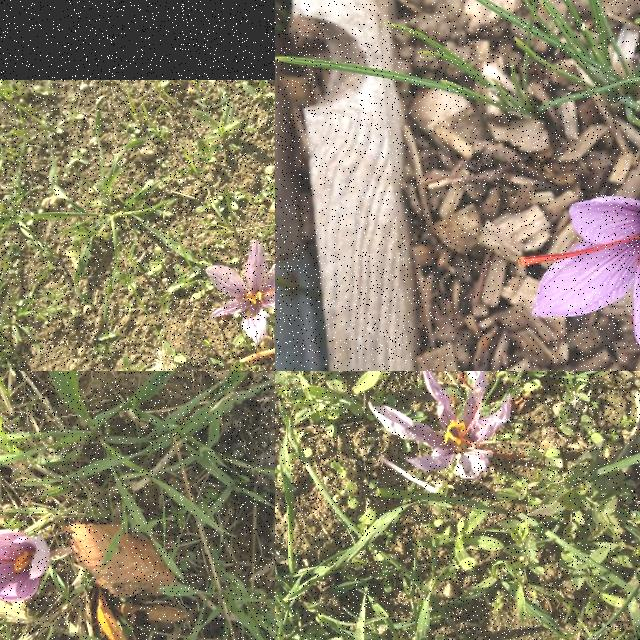flower: (520, 132, 640, 355), (368, 371, 512, 479), (205, 240, 275, 346), (0, 509, 55, 602)
